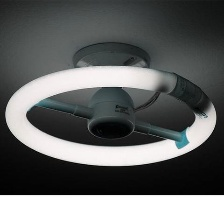light_bulb: (2, 61, 219, 170)
